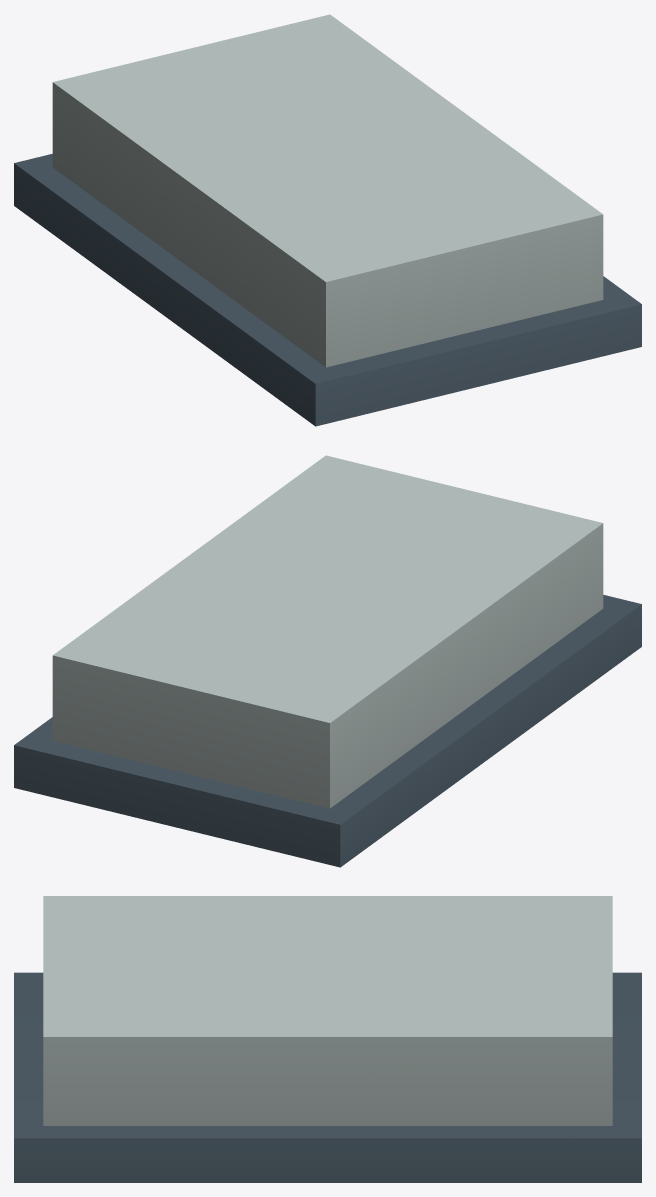
File: fishcrate.lod2.glb
The picture shows the model from 3 angles, top to bottom: view 1: azimuth 30°, elevation 25°; view 2: azimuth 150°, elevation 25°; view 3: azimuth 270°, elevation 25°; orthographic projection. The views are drawn at different scales.
Bounding box in the file's own units: 0.4 × 0.15 × 0.64.
